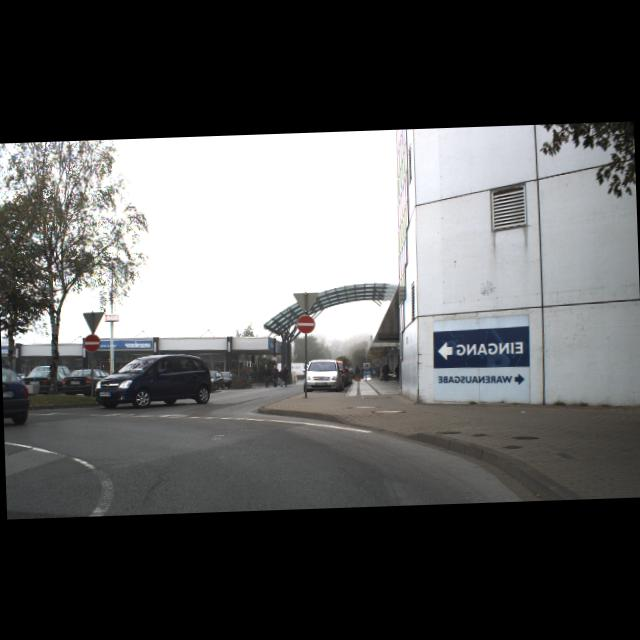other: (296, 314, 316, 334), (82, 333, 100, 352)
